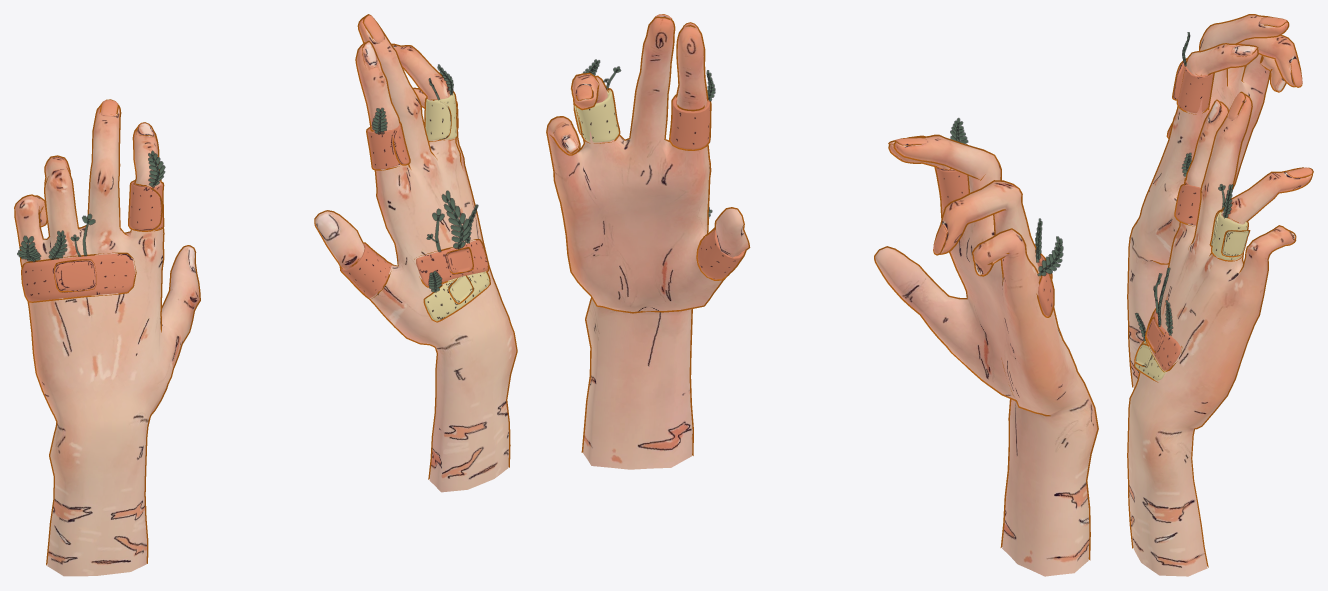
Rendered from hands.glb.
The picture shows the model from 3 angles, left to right: view 1: azimuth 30°, elevation 25°; view 2: azimuth 150°, elevation 25°; view 3: azimuth 270°, elevation 25°; orthographic projection. The views are drawn at different scales.
Parts seen in each view (by area): view 1: Object_4, Object_5, Object_6, Object_2, Object_3; view 2: Object_4, Object_6, Object_5, Object_2, Object_3; view 3: Object_4, Object_6, Object_5, Object_2, Object_3.
Boxes of the visible parts, bbox=[...] form: Object_4: bbox=[15, 15, 516, 576]; Object_5: bbox=[22, 93, 489, 321]; Object_6: bbox=[14, 14, 517, 565]; Object_2: bbox=[17, 64, 478, 292]; Object_3: bbox=[17, 65, 477, 291]; Object_4: bbox=[547, 14, 1097, 576]; Object_6: bbox=[546, 14, 1098, 560]; Object_5: bbox=[574, 90, 1053, 316]; Object_2: bbox=[583, 59, 1063, 276]; Object_3: bbox=[583, 60, 1062, 275]; Object_4: bbox=[1128, 15, 1312, 576]; Object_6: bbox=[1127, 14, 1313, 567]; Object_5: bbox=[1135, 60, 1248, 380]; Object_2: bbox=[1135, 32, 1233, 341]; Object_3: bbox=[1135, 32, 1232, 340].
Size of the model in its own units: 0.9811 by 0.9038 by 0.3503.
Materials: 5 (2 with a texture image).
